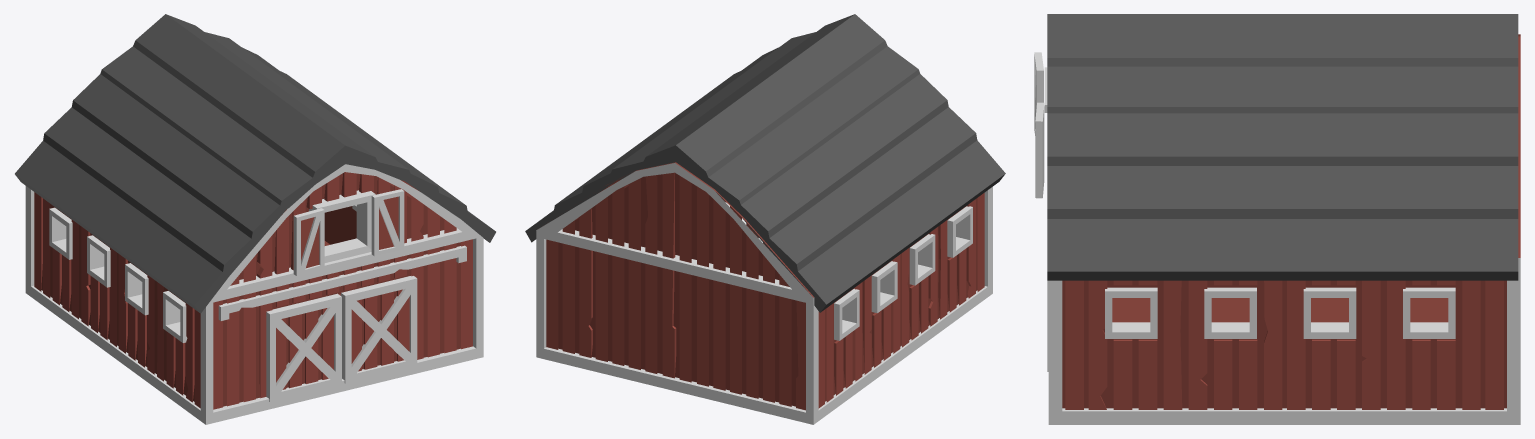
The model's file is barn.glb.
3 views of the same model, side by side, from view 1: azimuth 30°, elevation 25°; view 2: azimuth 150°, elevation 25°; view 3: azimuth 270°, elevation 25° (orthographic). The views are drawn at different scales.
Parts seen in each view (by area): view 1: Barn, Barn_Door, Barn_Door2, Barn_Window, Barn_Window2; view 2: Barn; view 3: Barn, Barn_Window, Barn_Window2.
Boxes of the visible parts, x1,y1,x2,y2 form: Barn: [15, 14, 495, 424]; Barn_Door: [340, 276, 417, 383]; Barn_Door2: [266, 293, 341, 401]; Barn_Window: [371, 189, 404, 256]; Barn_Window2: [293, 208, 324, 275]; Barn: [525, 14, 1005, 424]; Barn: [1044, 14, 1520, 424]; Barn_Window: [1035, 102, 1044, 198]; Barn_Window2: [1034, 52, 1043, 135].
Bounding box in the file's own units: 7.73 × 6.01 × 8.22.
